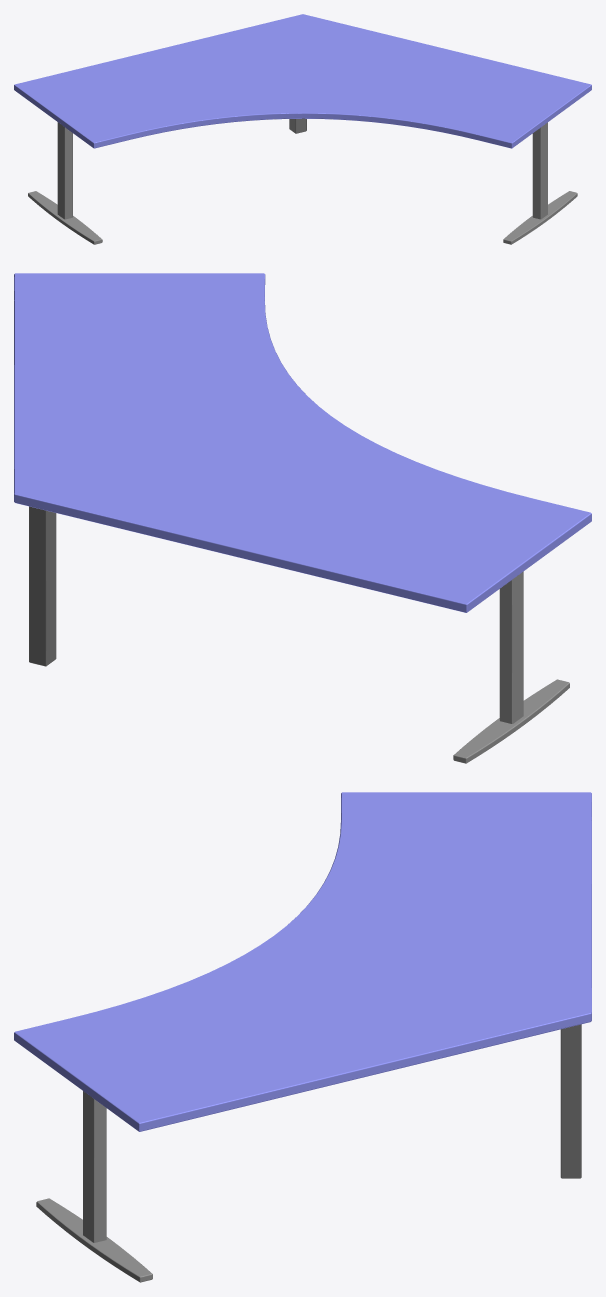
File: Hexagonal.FBX
3 views of the same model, one above another, from view 1: azimuth 30°, elevation 25°; view 2: azimuth 150°, elevation 25°; view 3: azimuth 270°, elevation 25° (orthographic). The views are drawn at different scales.
Parts seen in each view (by area): view 1: MESH, Object007, Object008; view 2: MESH, Object007, Object014; view 3: MESH, Object008, Object014.
Boxes of the visible parts, bbox=[...] form: MESH: bbox=[14, 14, 591, 148]; Object007: bbox=[28, 122, 102, 244]; Object008: bbox=[503, 122, 577, 244]; MESH: bbox=[14, 273, 591, 612]; Object007: bbox=[453, 571, 569, 763]; Object014: bbox=[29, 506, 56, 666]; MESH: bbox=[14, 792, 591, 1131]; Object008: bbox=[36, 1091, 152, 1282]; Object014: bbox=[560, 1024, 581, 1178].
Size of what is drawn, in the model's own units: 375 by 90 by 276.
